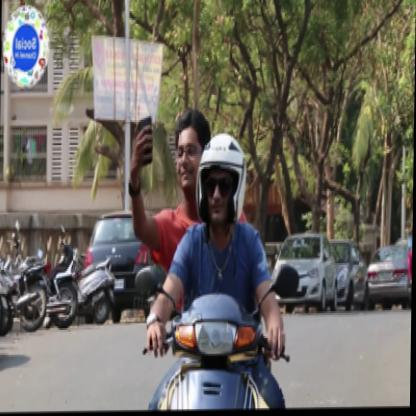With Helmet: (191, 125, 254, 232)
